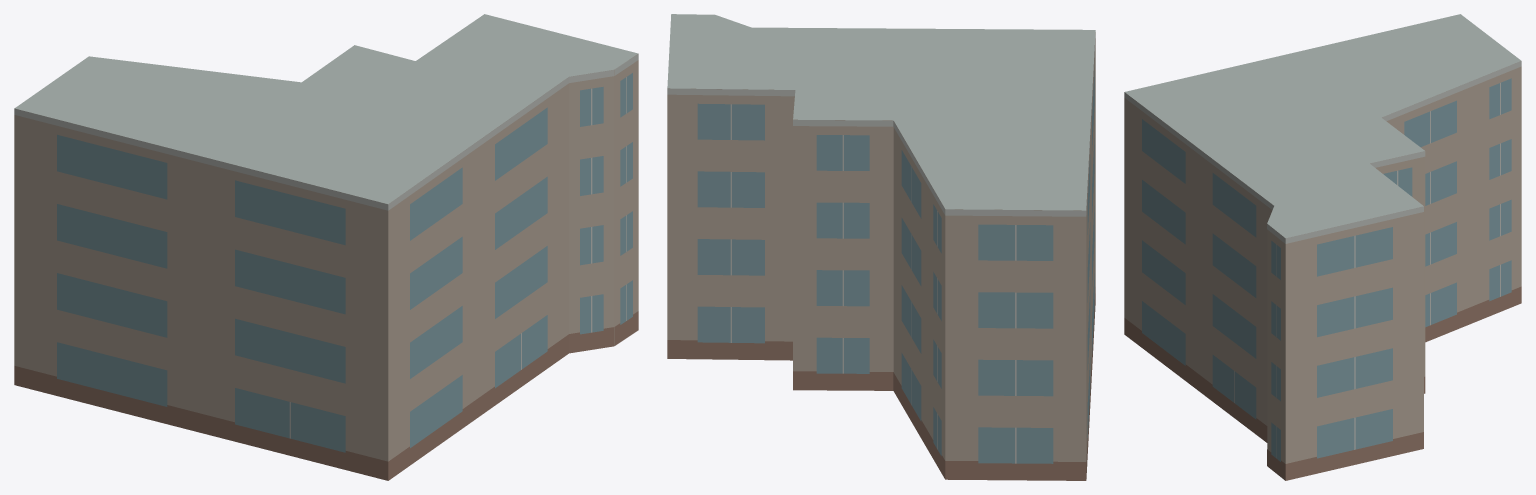
File: survey-upis-32463305.glb
3 views of the same model, side by side, from view 1: azimuth 30°, elevation 25°; view 2: azimuth 150°, elevation 25°; view 3: azimuth 270°, elevation 25° (orthographic). The views are drawn at different scales.
Parts seen in each view (by area): view 1: survey-upis-32463305.tmp; view 2: survey-upis-32463305.tmp; view 3: survey-upis-32463305.tmp.
Part boxes in pixels (box(x1,y1,x2,y2)): survey-upis-32463305.tmp: box(14, 14, 638, 480); survey-upis-32463305.tmp: box(667, 14, 1095, 480); survey-upis-32463305.tmp: box(1124, 14, 1521, 480).
Bounding box in the file's own units: 20.84 × 10.5 × 15.59.
